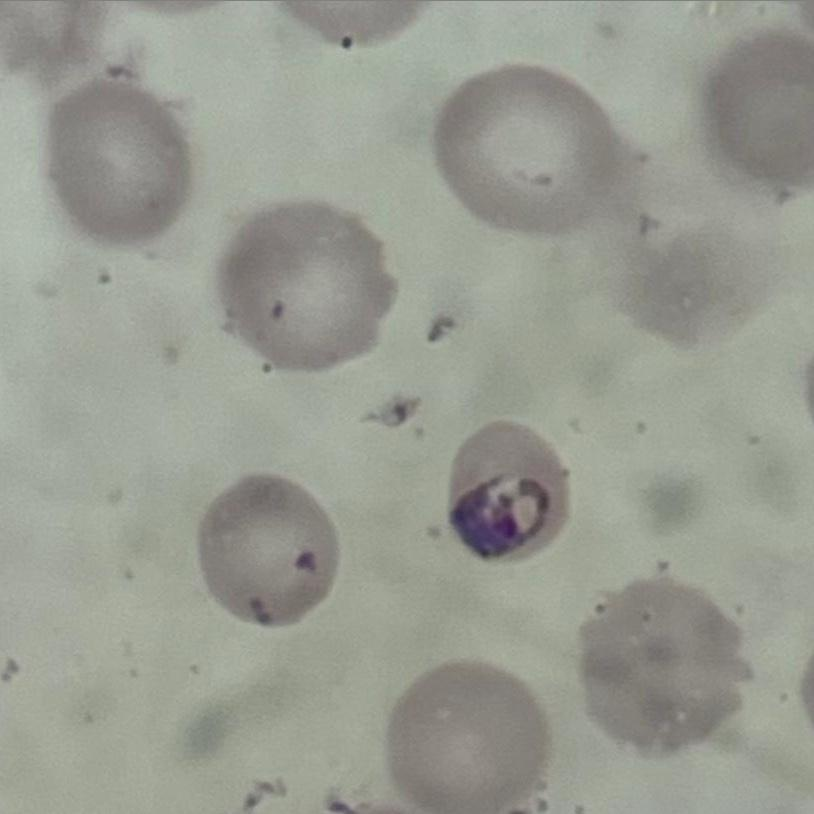Infected: (448, 422, 574, 561)
Uninfected: (578, 582, 754, 754), (435, 67, 615, 232), (217, 204, 394, 371), (383, 660, 547, 814), (48, 80, 193, 248), (193, 472, 341, 628), (703, 32, 814, 185)
